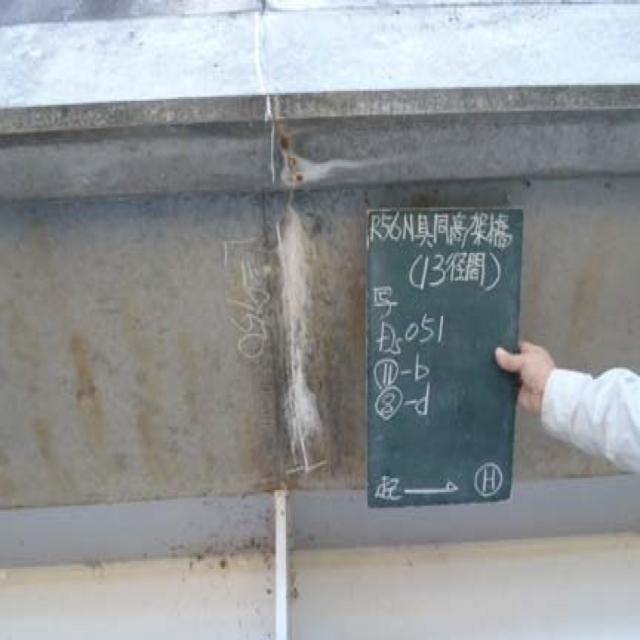freelime: (273, 144, 333, 507), (239, 7, 290, 122)
